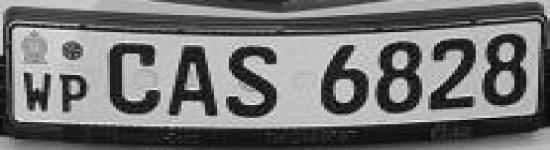2: (424, 34, 480, 114)
6: (309, 38, 374, 118)
8: (371, 37, 426, 118), (482, 31, 534, 108)
A: (170, 42, 221, 120)
C: (104, 37, 168, 115)
P: (60, 73, 97, 116)
S: (223, 36, 289, 124)
W: (18, 69, 58, 114)
